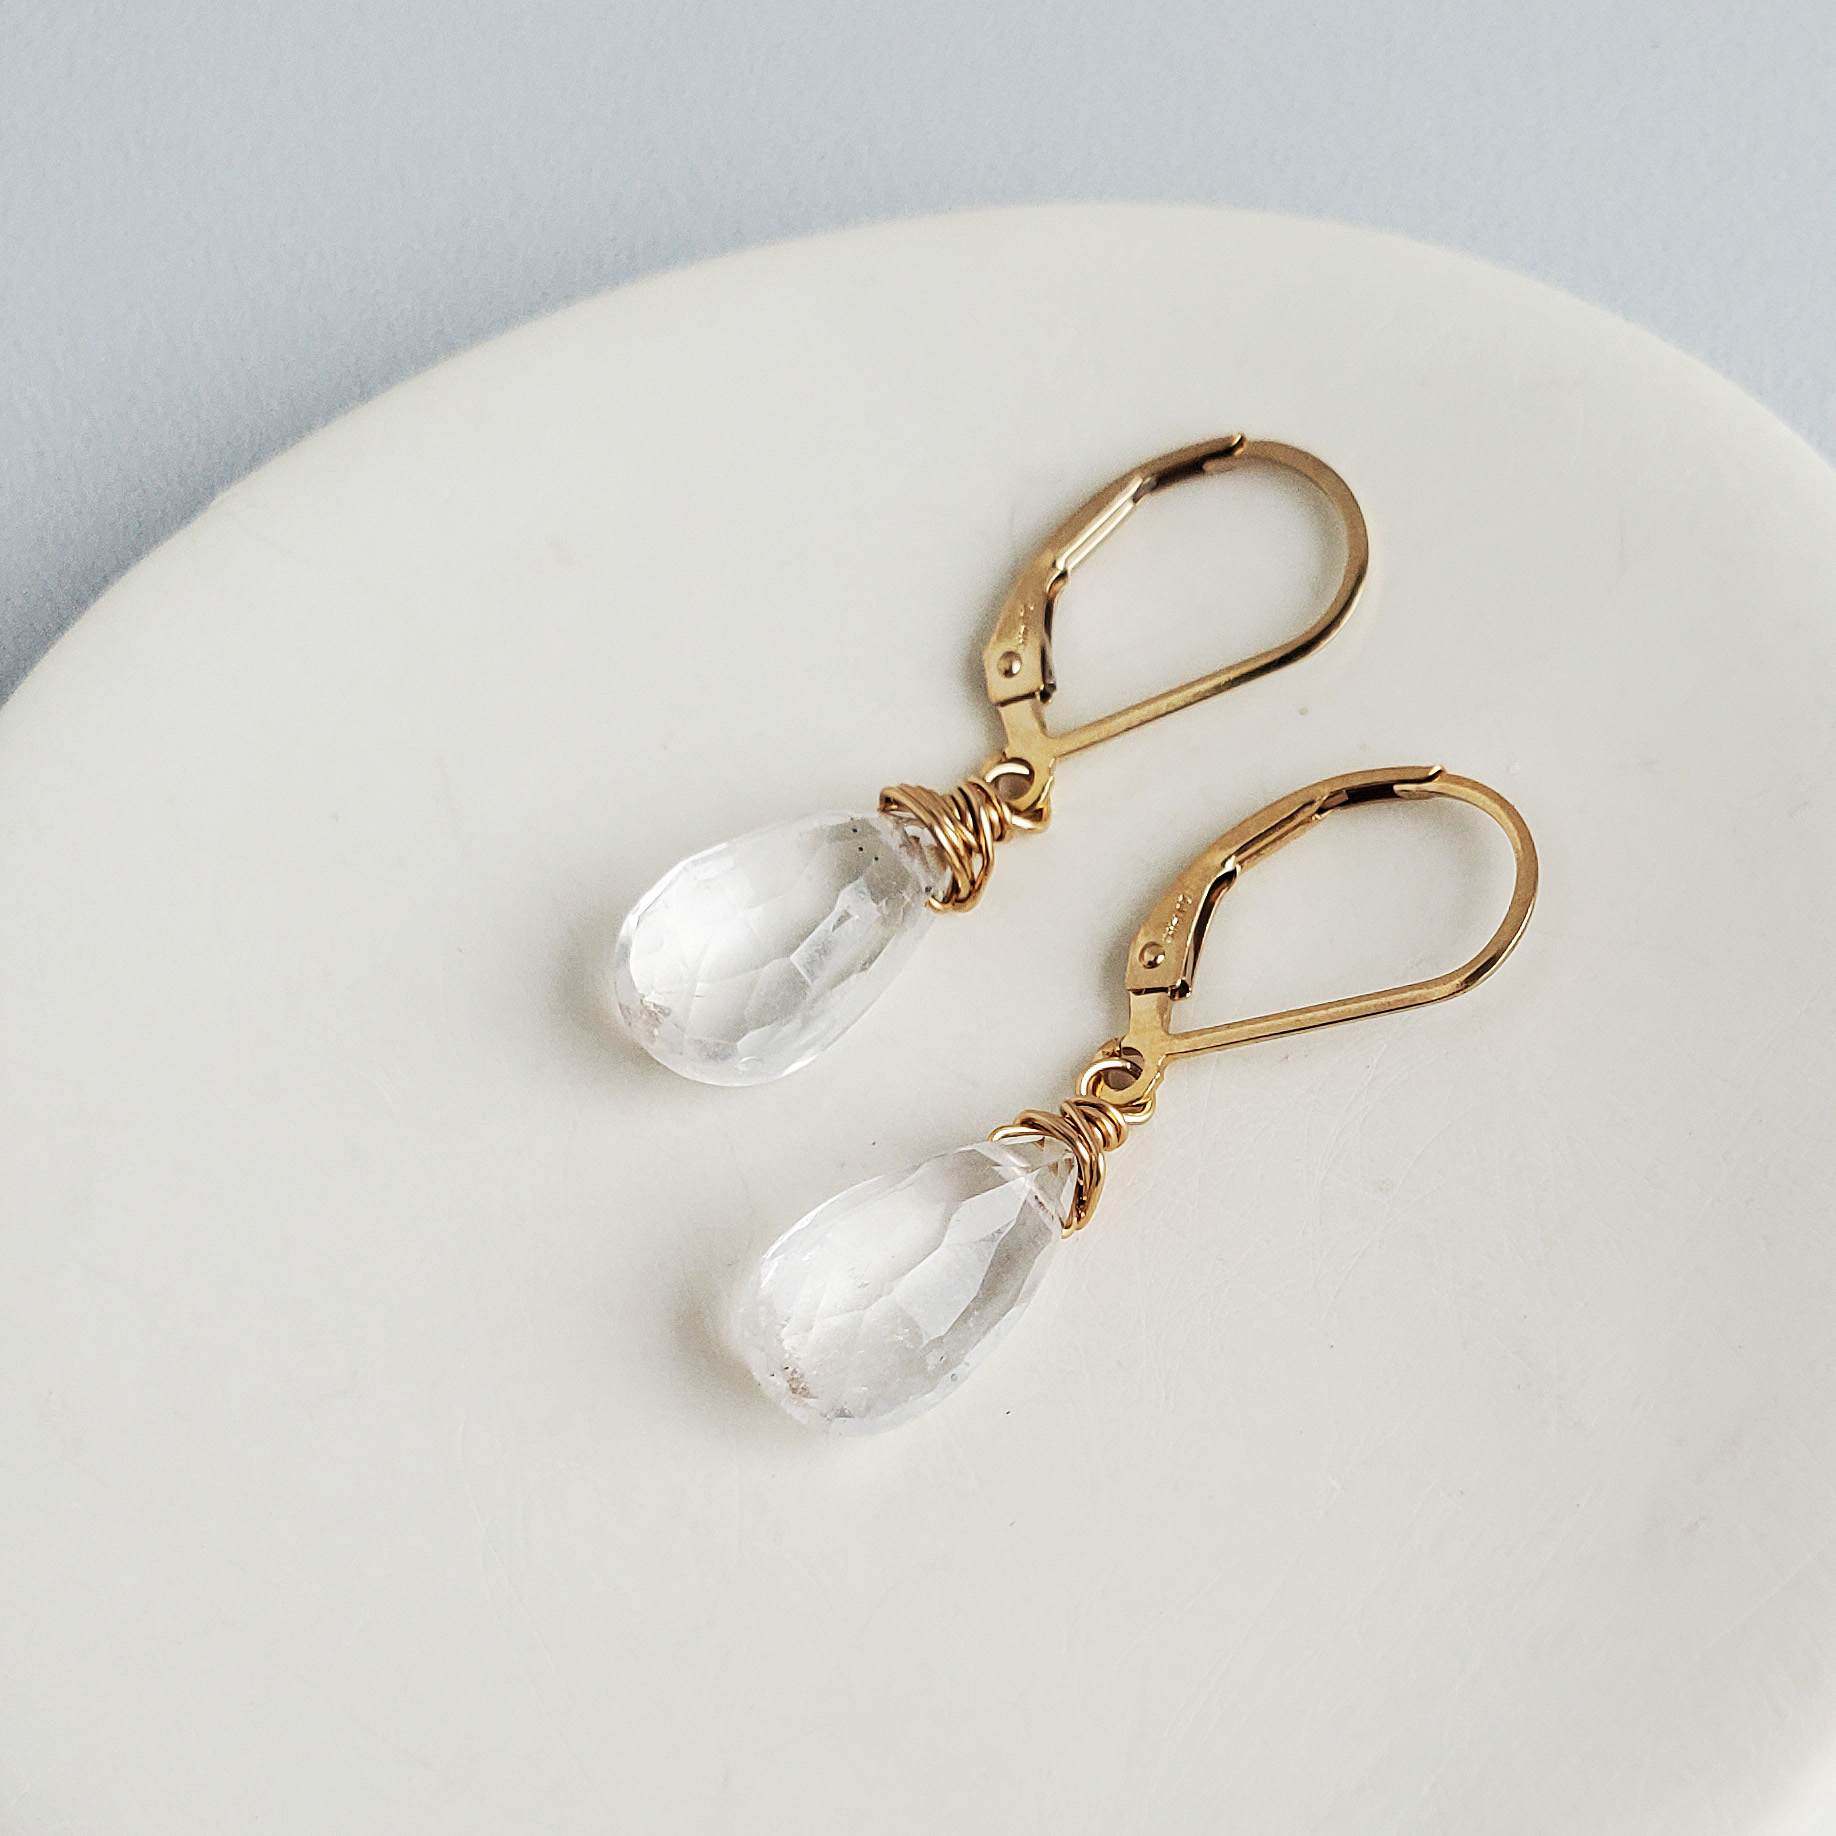Clear_Quartz: (701, 1121, 1103, 1443), (594, 760, 968, 1088)
